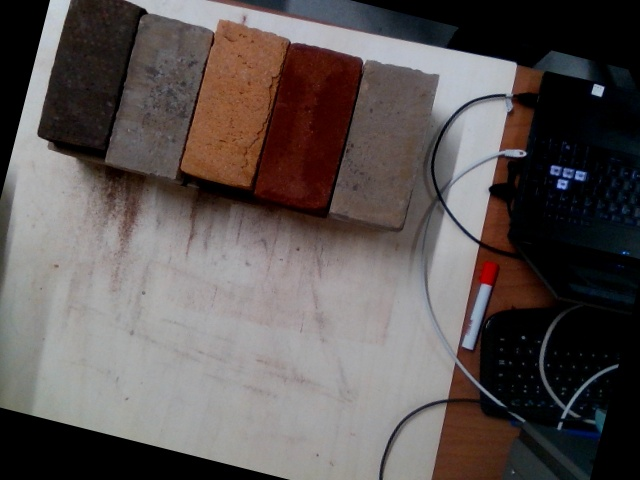brick: (179, 20, 290, 186), (254, 44, 362, 208), (331, 62, 438, 225), (103, 14, 210, 177)
